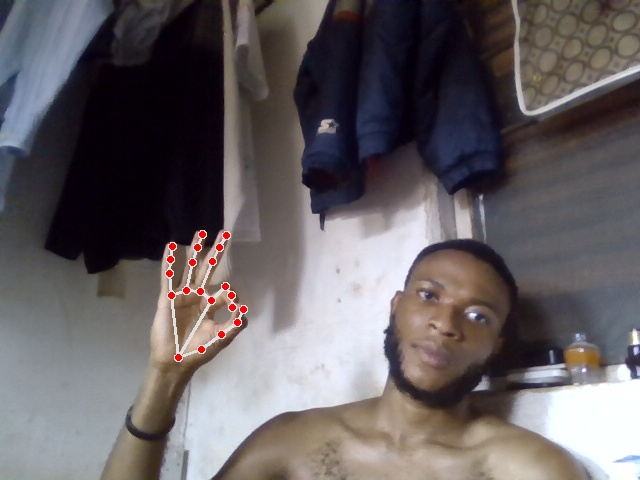okay: (149, 228, 249, 377)
